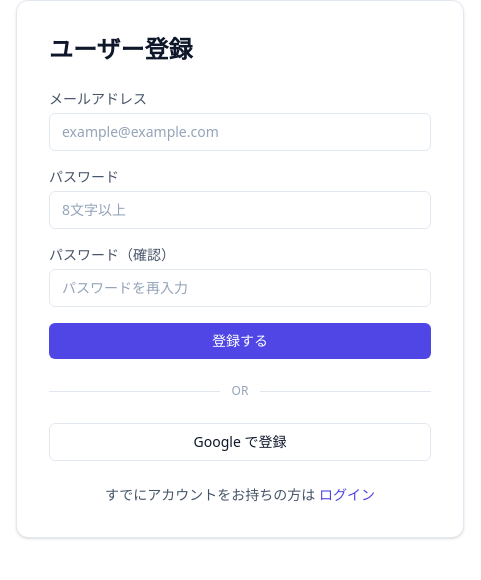
Test: RegisterForm › パスワードが確認用と一致しない時のバリデーションエラー表示
Type "test@example.com" into the field labelled "メールアドレス" at (240, 132), box [49, 113, 431, 151]
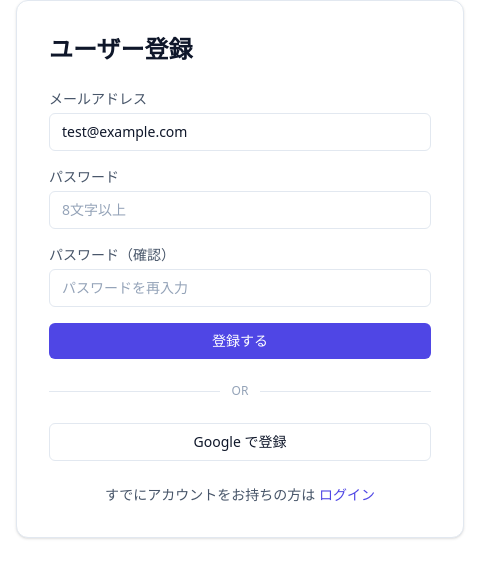
Type "password123" into the password field labelled "パスワード" at (240, 210), box [49, 191, 431, 229]
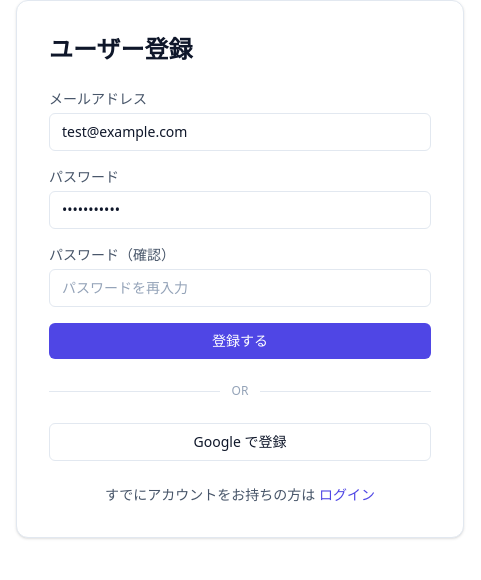
Type "different" into the password field labelled "パスワード（確認）" at (240, 288), box [49, 269, 431, 307]
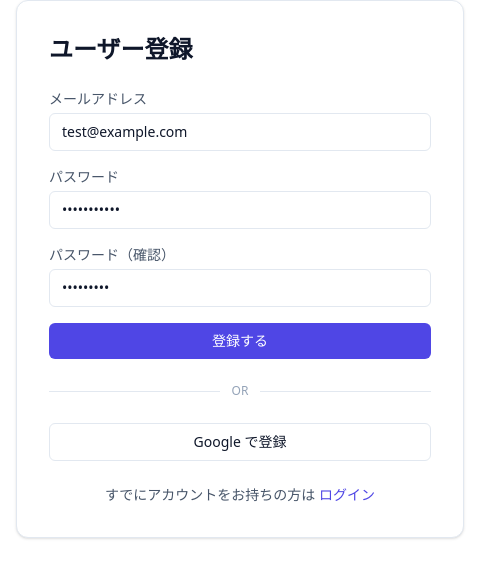
Submit the text "登録する", box [49, 89, 431, 359]
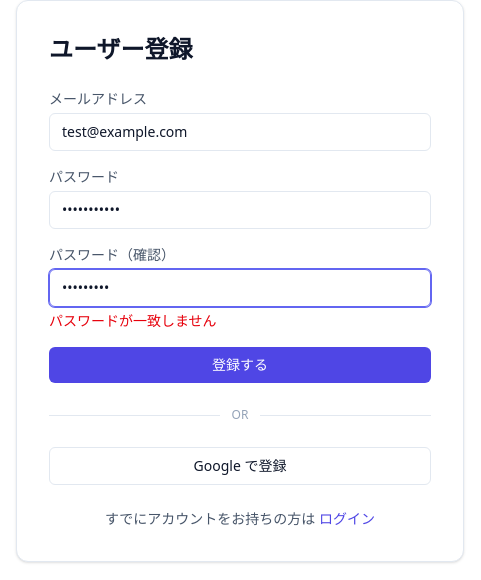
Expected: the text "パスワードが一致しません" is shown, [49, 311, 217, 330]
